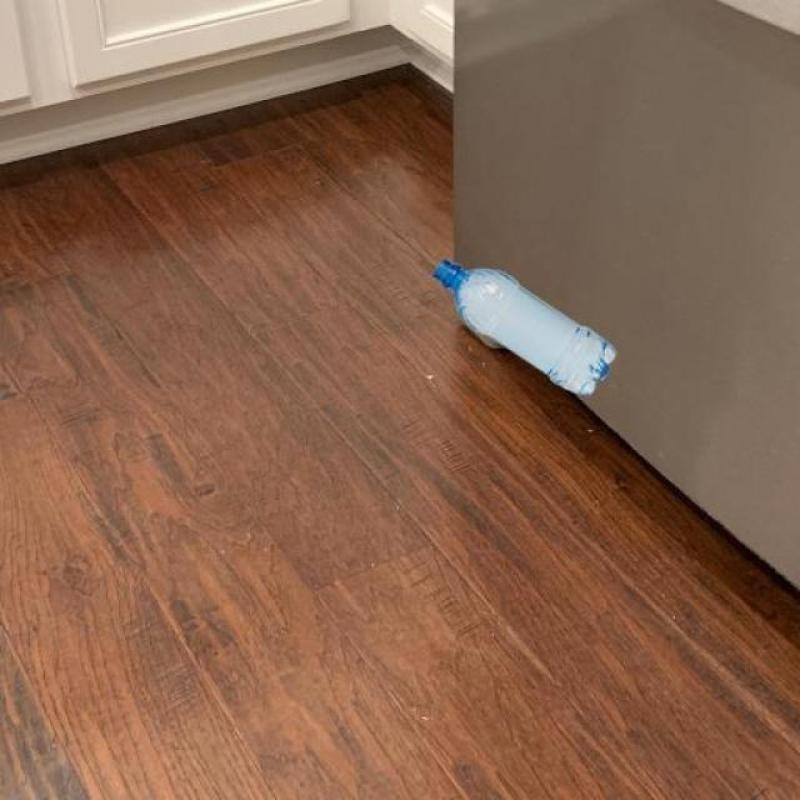botella: (431, 257, 617, 398)
